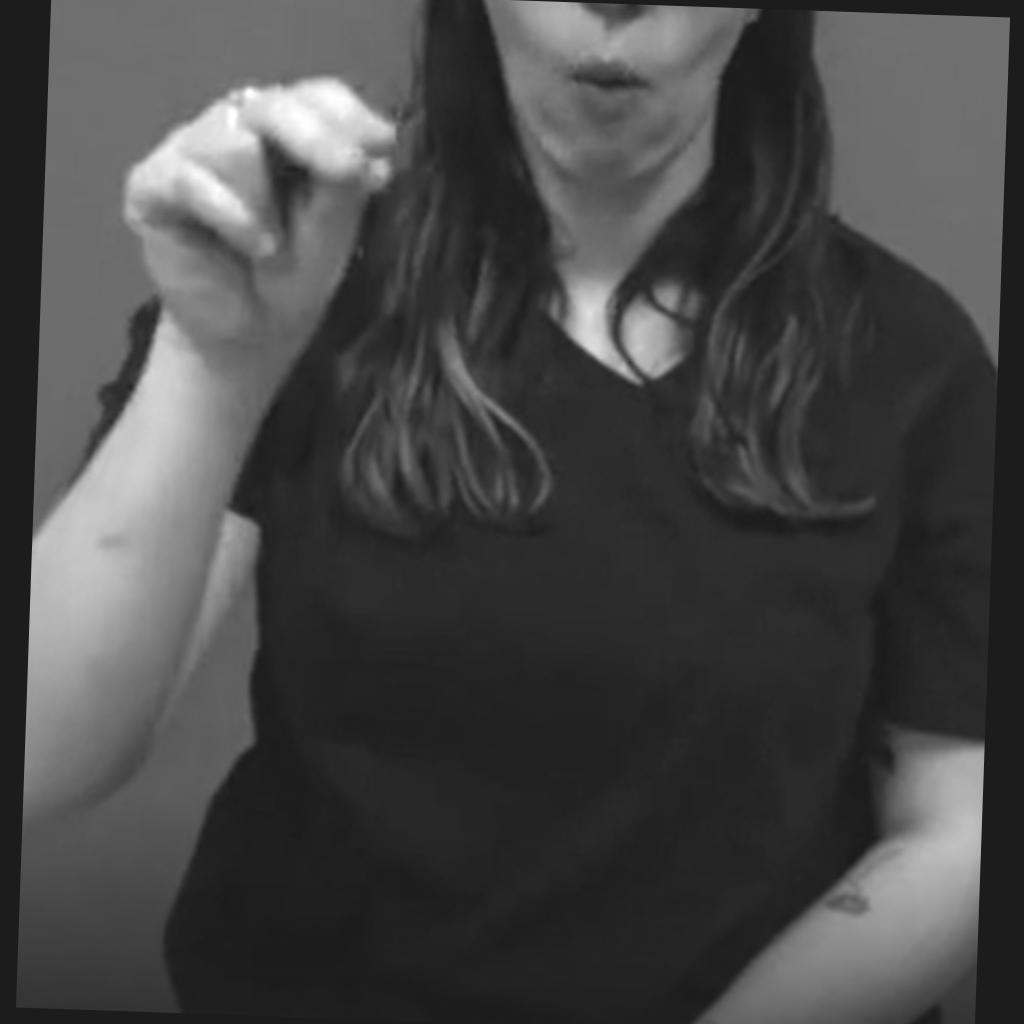no: (118, 70, 400, 358)
